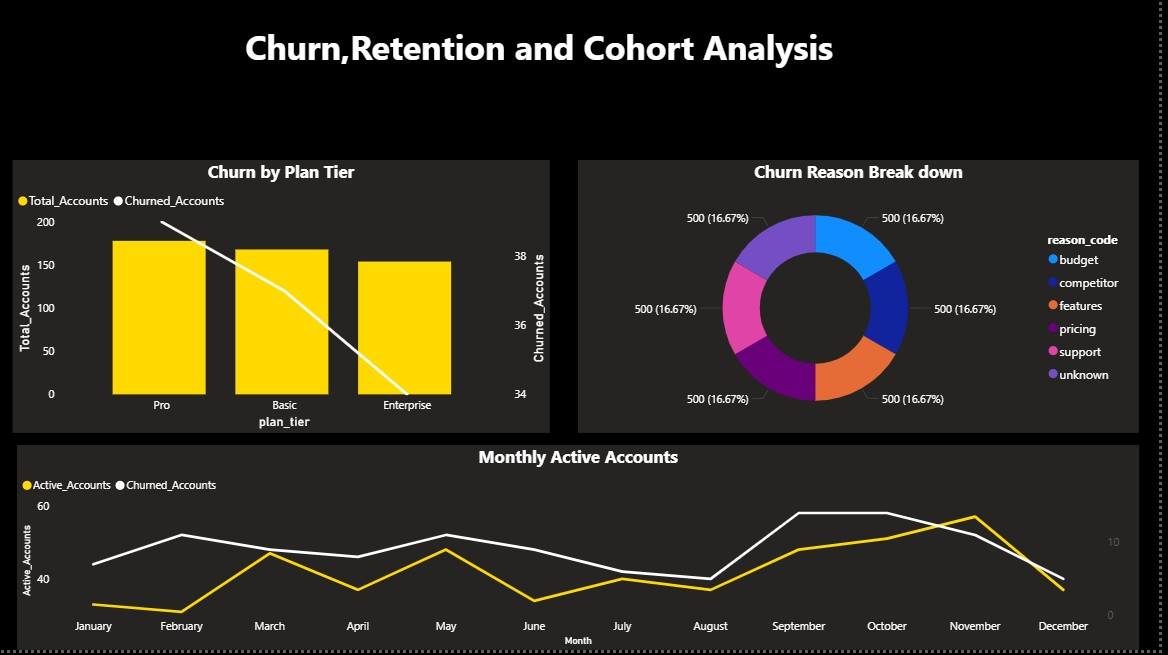

The page's visual inventory and layout, read from the dashboard file:
{"tool":"powerbi","page":{"name":"Churn ,Retention and Cohort Analysis","canvas":[1280,720],"ordinal":2},"visuals":[{"type":"textbox","box":[185.5,23.2,821.6,62.9],"z":0},{"type":"lineStackedColumnComboChart","title":"Churn by Plan Tier","fields":{"Y":["public accounts.Total_Accounts"],"Category":["public accounts.plan_tier"],"Y2":["public accounts.Churned_Accounts"]},"box":[14.9,178.9,593,301.5],"z":1},{"type":"lineChart","title":"Monthly Active Accounts","fields":{"Category":["public accounts.signup_date.Variation.Date Hierarchy.Month"],"Y2":["public accounts.Churned_Accounts"],"Y":["public subscriptions.Active_Accounts"]},"box":[19.9,493.6,1239,226.9],"z":2},{"type":"donutChart","title":"Churn Reason Break down ","fields":{"Category":["public churn_events.reason_code"],"Y":["public accounts.Total_Accounts"]},"box":[639.4,178.9,619.5,301.5],"z":3}]}

Visuals, with their boxes in screenshot pixels (x1, y1, x2, y2), scaled from the page's 1280x720 canvas onto the 1168x655 screenshot:
textbox: 169/21/919/78
"Churn by Plan Tier" lineStackedColumnComboChart: 14/163/555/437
"Monthly Active Accounts" lineChart: 18/449/1149/654
"Churn Reason Break down " donutChart: 583/163/1149/437
